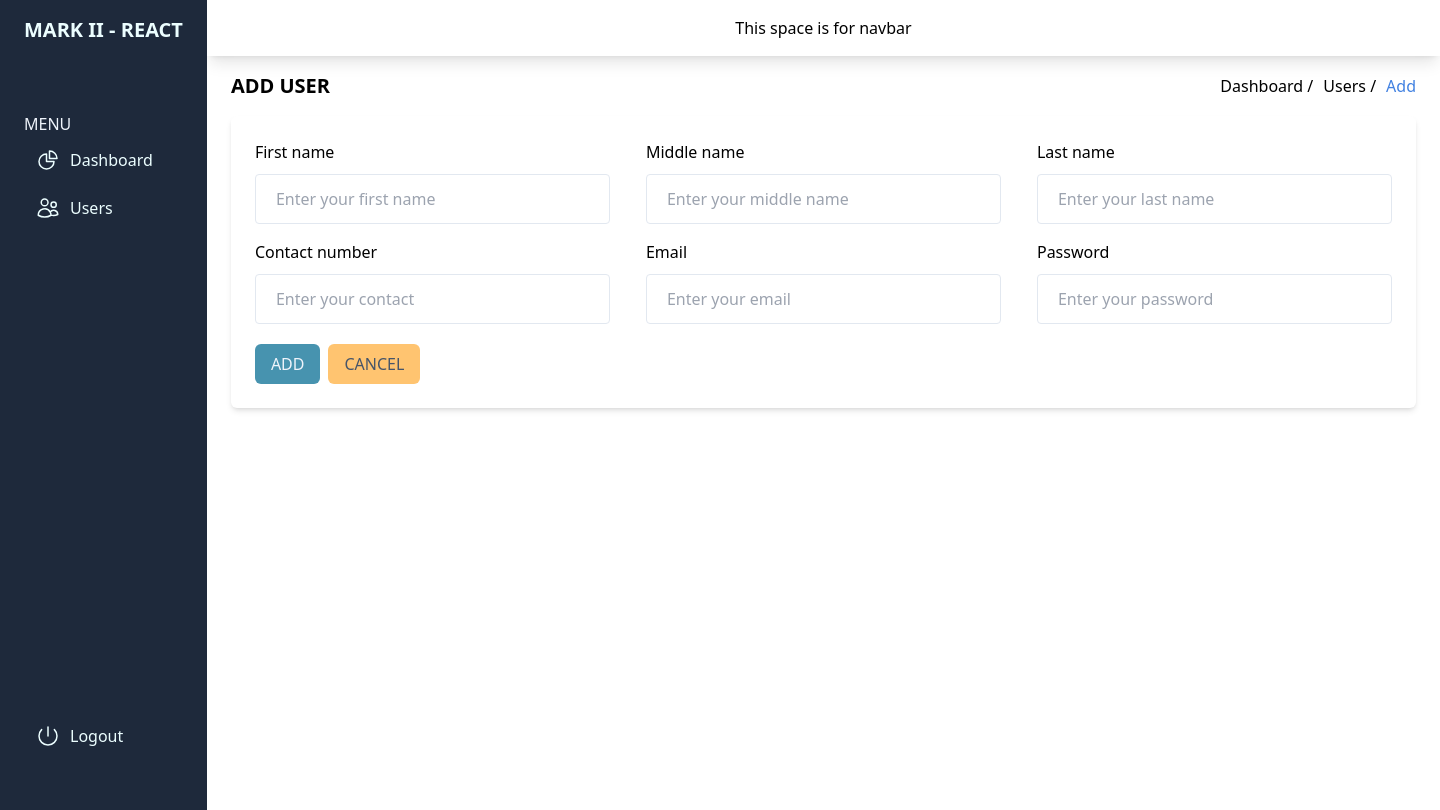
UserAdd page › render and submit page without filling form
Check: the form is shown, box left=255, top=140, right=1392, bottom=384
Click the button "Add" at (288, 364), box left=255, top=344, right=320, bottom=384
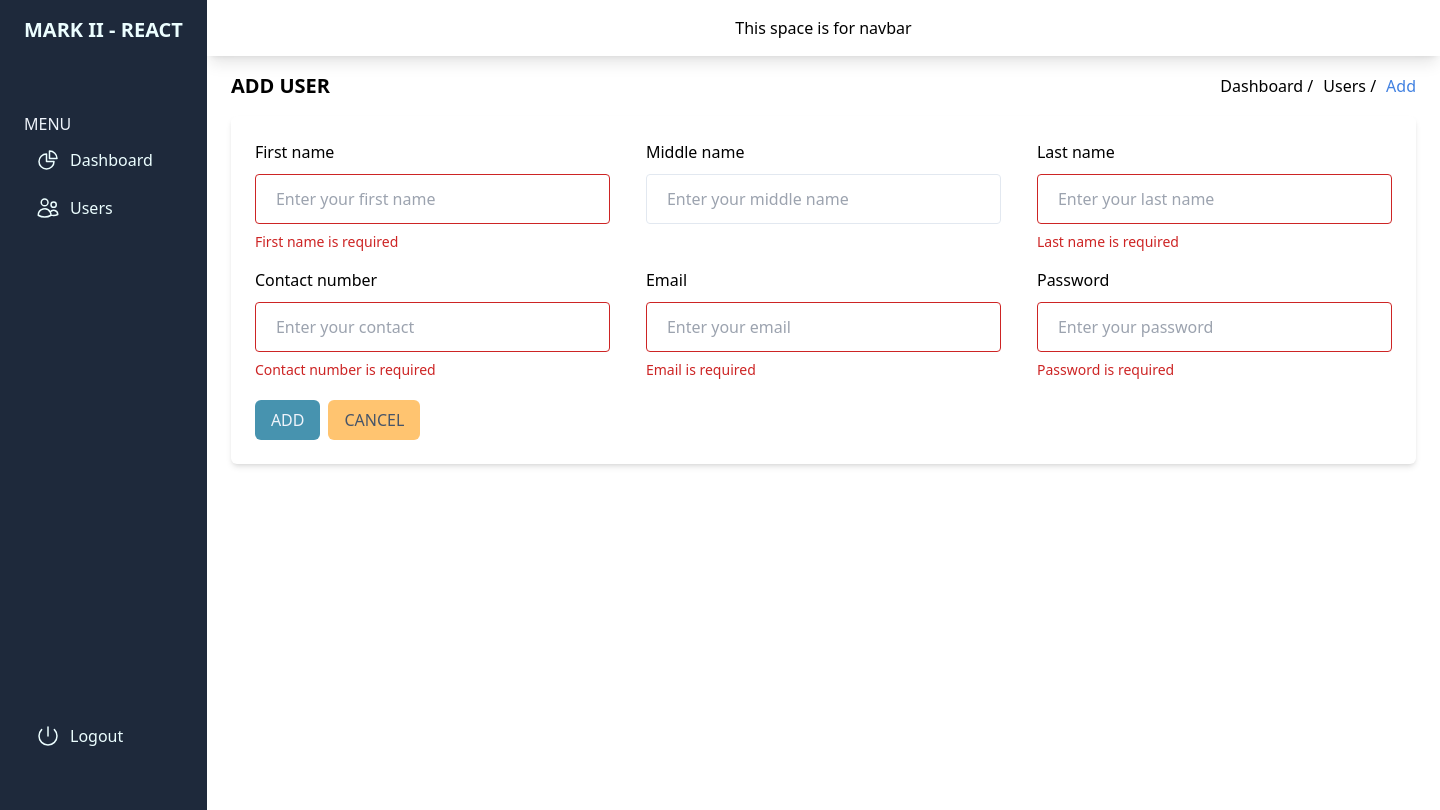
Check: the number of messages is 5, box left=255, top=232, right=398, bottom=251; left=1037, top=232, right=1179, bottom=251; left=255, top=360, right=436, bottom=379; left=646, top=360, right=756, bottom=379; left=1037, top=360, right=1174, bottom=379
